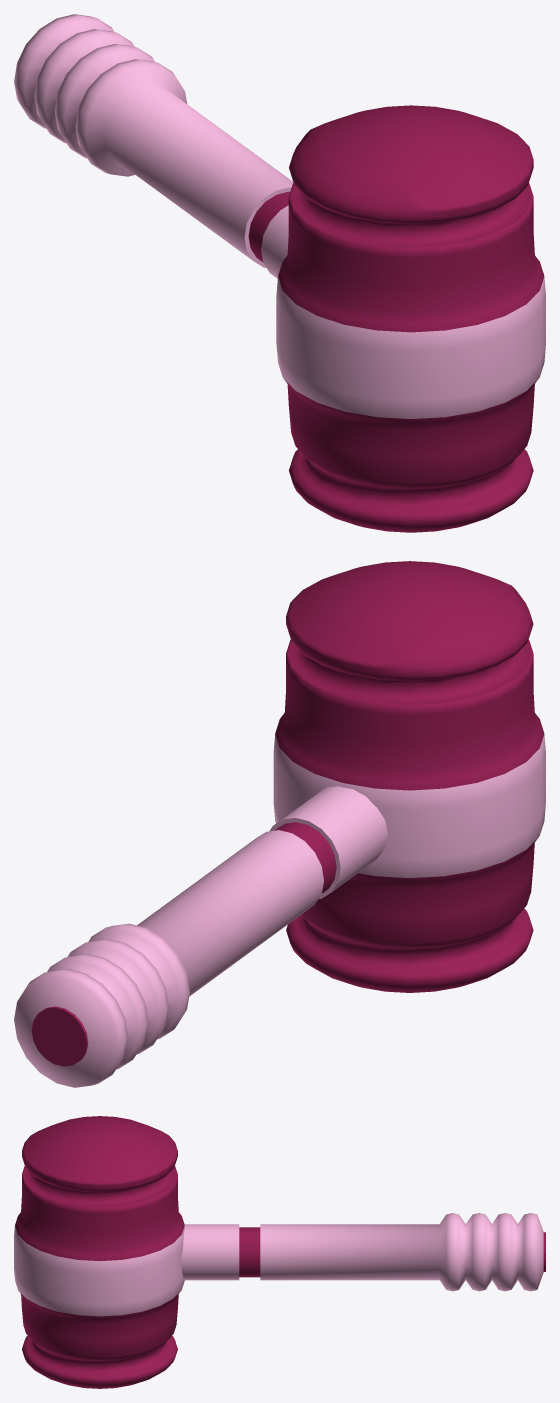
3 views of the same model, one above another, from view 1: azimuth 30°, elevation 25°; view 2: azimuth 150°, elevation 25°; view 3: azimuth 270°, elevation 25° (orthographic). The views are drawn at different scales.
Visible parts, largest first — view 1: Citerne001, Cylindre001; view 2: Citerne001, Cylindre001; view 3: Citerne001, Cylindre001.
Boxes of the visible parts, <box> form: Citerne001: <box>276,105,545,532</box>; Cylindre001: <box>14,14,293,278</box>; Citerne001: <box>273,561,545,992</box>; Cylindre001: <box>14,786,387,1087</box>; Citerne001: <box>14,1116,184,1388</box>; Cylindre001: <box>181,1213,545,1291</box>.
Size of the model in its own units: 49.27 by 78.43 by 153.
